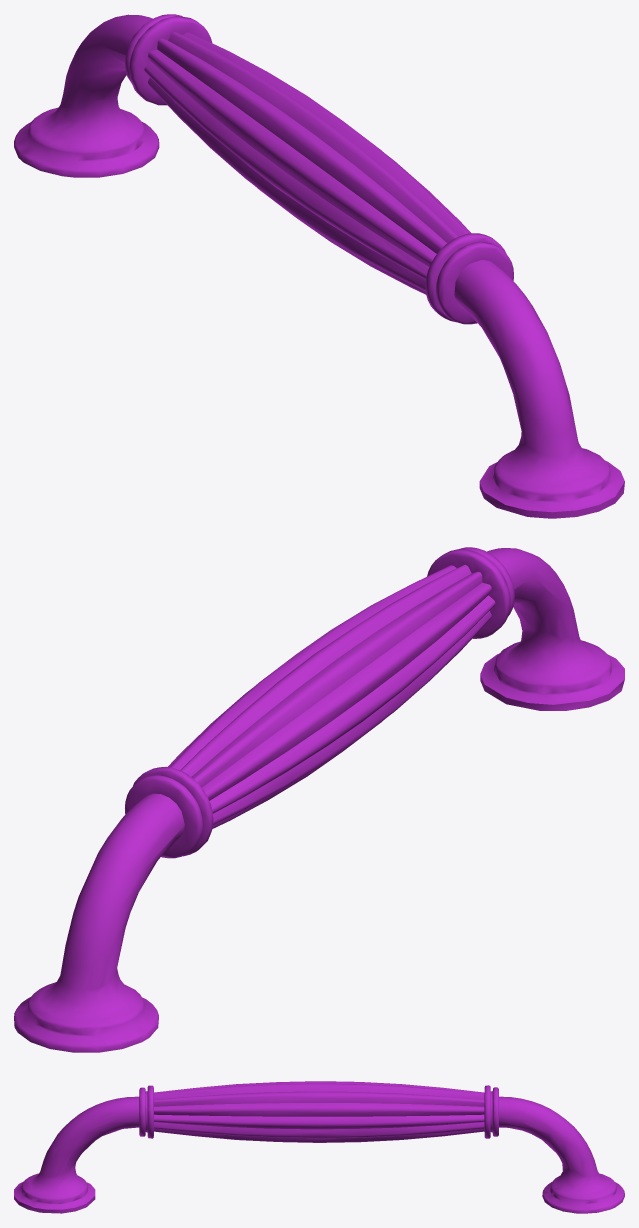
File: rychka_5_1.glb
3 renders of one model, top to bottom at view 1: azimuth 30°, elevation 25°; view 2: azimuth 150°, elevation 25°; view 3: azimuth 270°, elevation 25°, orthographic. The views are drawn at different scales.
Parts seen in each view (by area): view 1: L4.008.128BL; view 2: L4.008.128BL; view 3: L4.008.128BL.
Part boxes in pixels (bbox=[...]): L4.008.128BL: bbox=[14, 14, 624, 518]; L4.008.128BL: bbox=[14, 547, 624, 1052]; L4.008.128BL: bbox=[14, 1081, 624, 1213].
Size of the model in its own units: 2 by 3 by 14.78.
